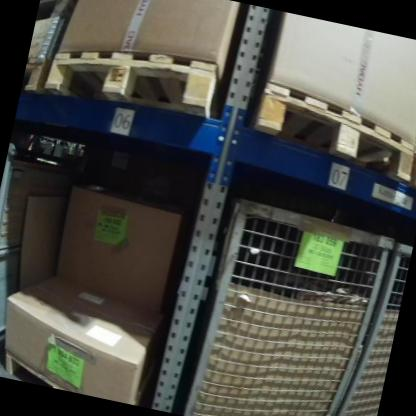pallet: (42, 31, 229, 130), (245, 80, 416, 185), (0, 354, 61, 387), (35, 0, 80, 28), (21, 57, 50, 94)
stillage: (180, 190, 399, 416), (0, 138, 103, 372), (327, 226, 413, 416)
